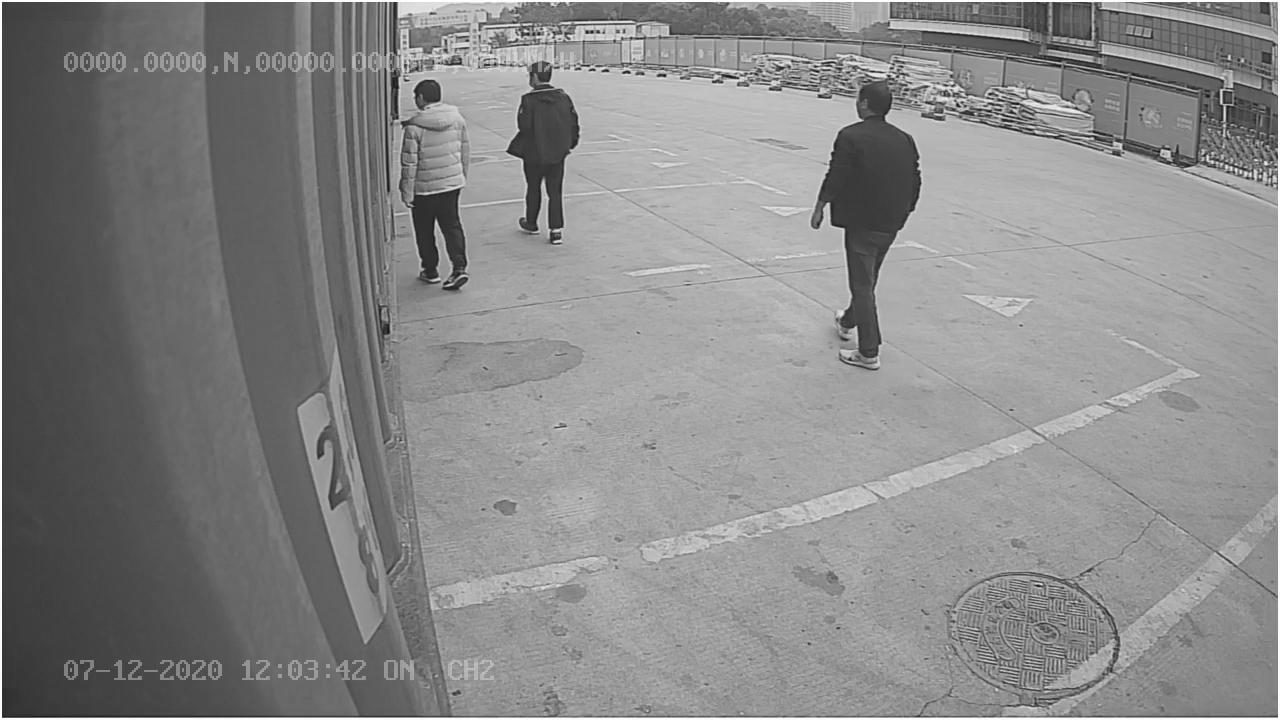person: (808, 79, 925, 375)
